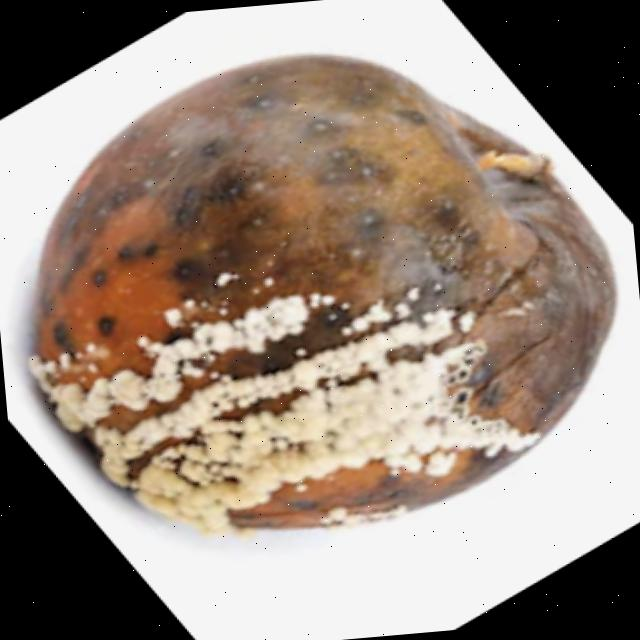Rotten: (2, 18, 640, 560)
